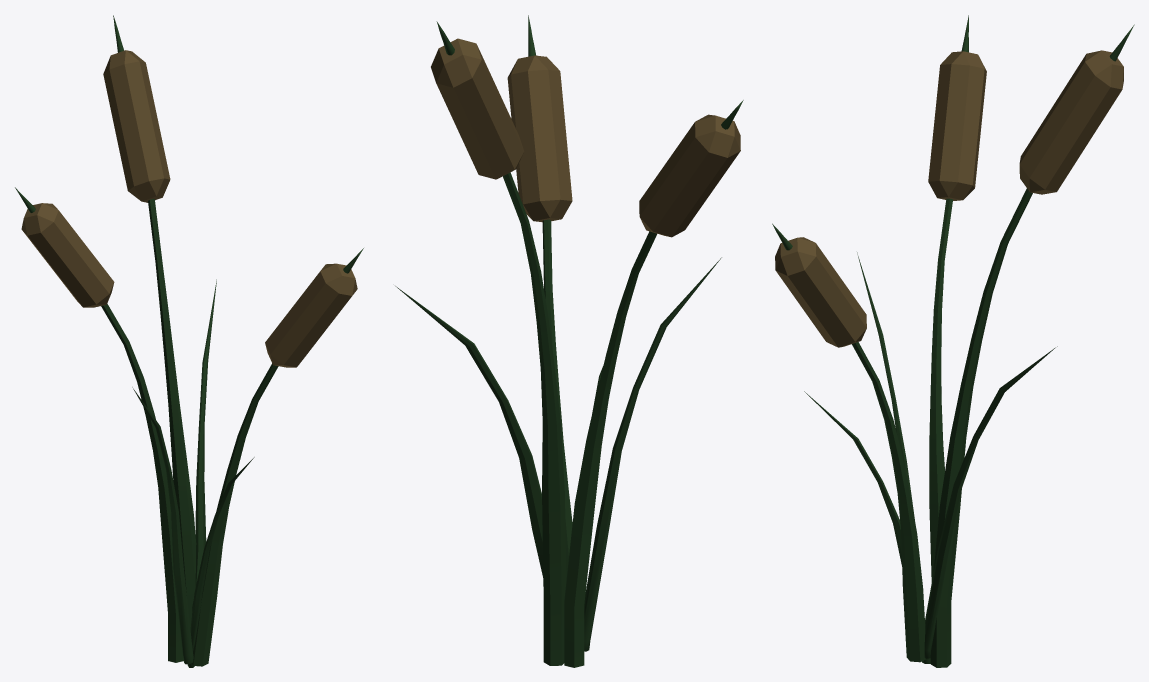
File: M_CatTail_CO.fbx
The picture shows the model from 3 angles, left to right: view 1: azimuth 30°, elevation 25°; view 2: azimuth 150°, elevation 25°; view 3: azimuth 270°, elevation 25°; orthographic projection. The views are drawn at different scales.
Parts seen in each view (by area): view 1: group4_pasted__pCylinder5; view 2: group4_pasted__pCylinder5; view 3: group4_pasted__pCylinder5.
Part boxes in pixels (left/top/right/bottom): group4_pasted__pCylinder5: left=15, top=15, right=363, bottom=667; group4_pasted__pCylinder5: left=395, top=15, right=743, bottom=667; group4_pasted__pCylinder5: left=772, top=15, right=1134, bottom=667.
Size of the model in its own units: 11.57 by 24.29 by 12.35.
